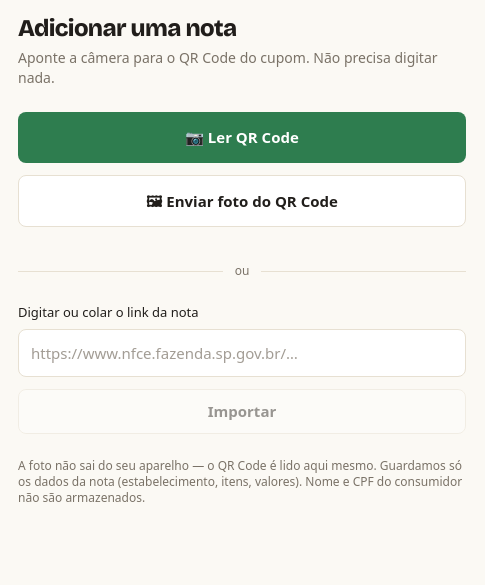
Scenario: ImportReceiptPage › shows a friendly message when the state is not supported
In the field named "URL da NFC-e": (242, 353) [18,328,466,377], type "https://example.com/x"
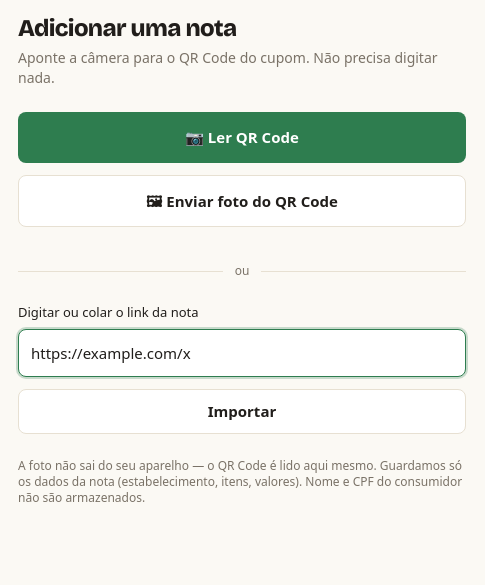
Click the button "Importar": (242, 411) [18,389,466,434]
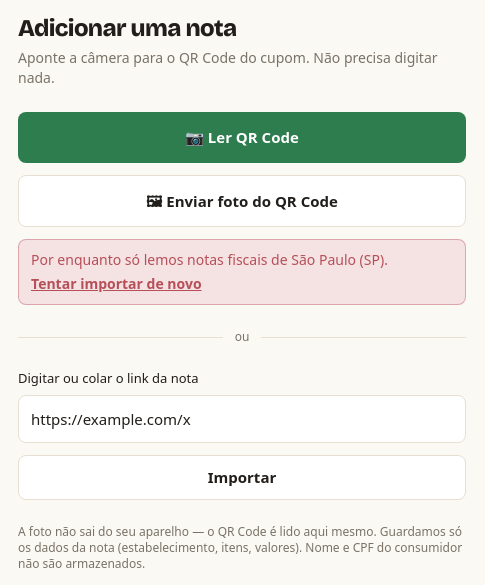
Expected: the text "Por enquanto só lemos notas fiscais de São Paulo (SP)." is shown, [31,250,388,269]
